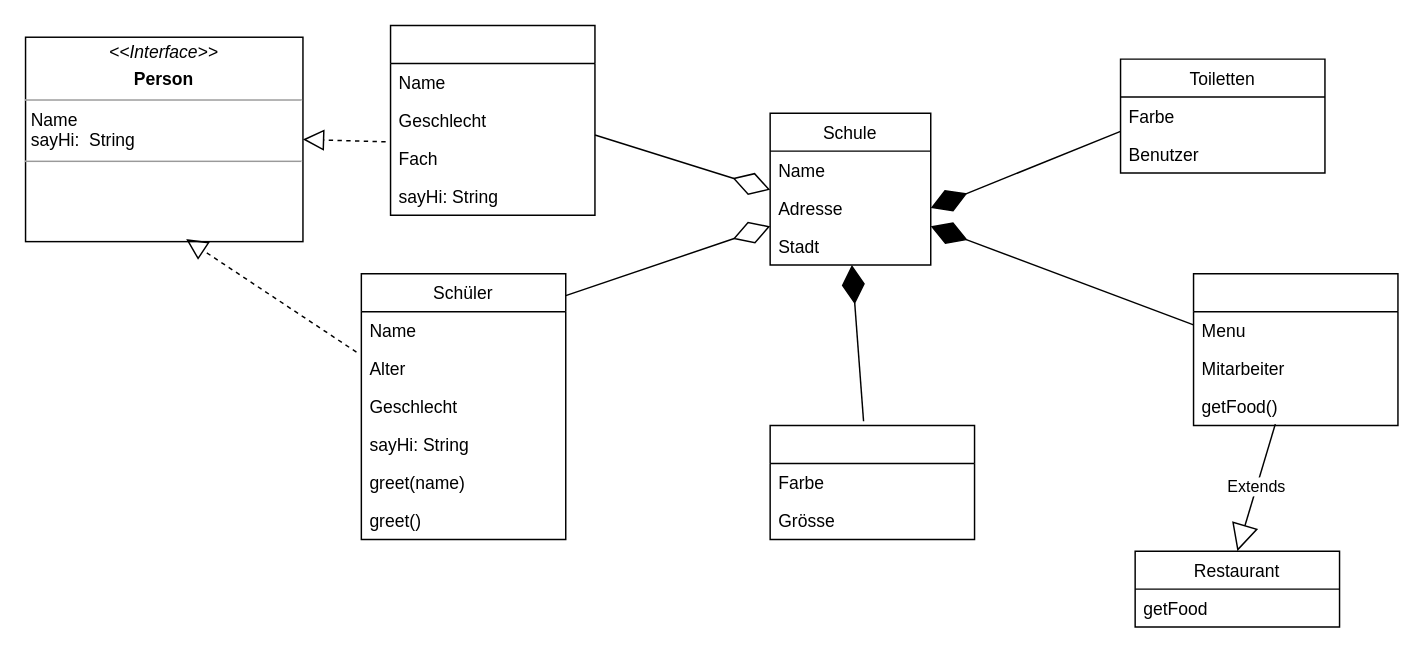
Some shapes in this 1424 by 657 pixel diagram are drawn without their labels. The box of each missing label's shape, as (x1, y1, x2, y2) in pixels:
Klassenzimmer: (769, 424, 975, 539)
Lehrperson: (389, 24, 595, 215)
Mensa: (1192, 272, 1398, 426)
